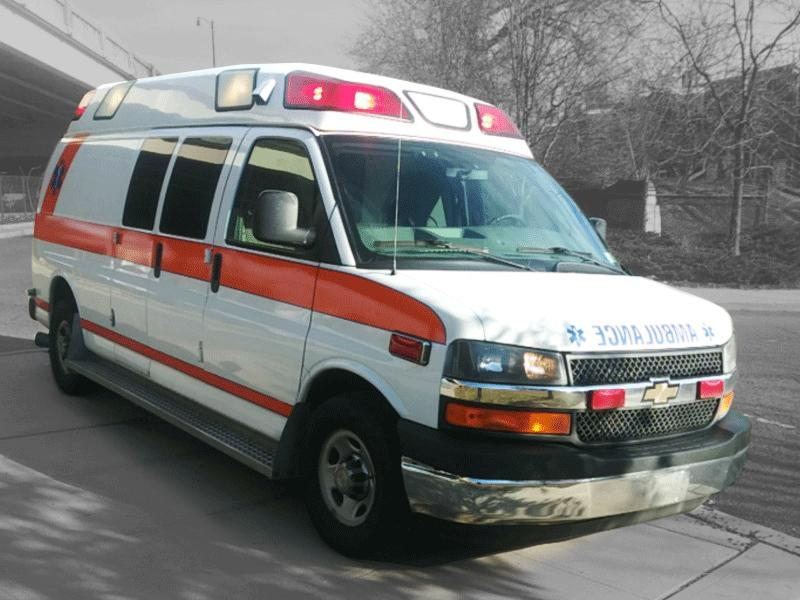ambulance_on: (23, 56, 747, 550)
